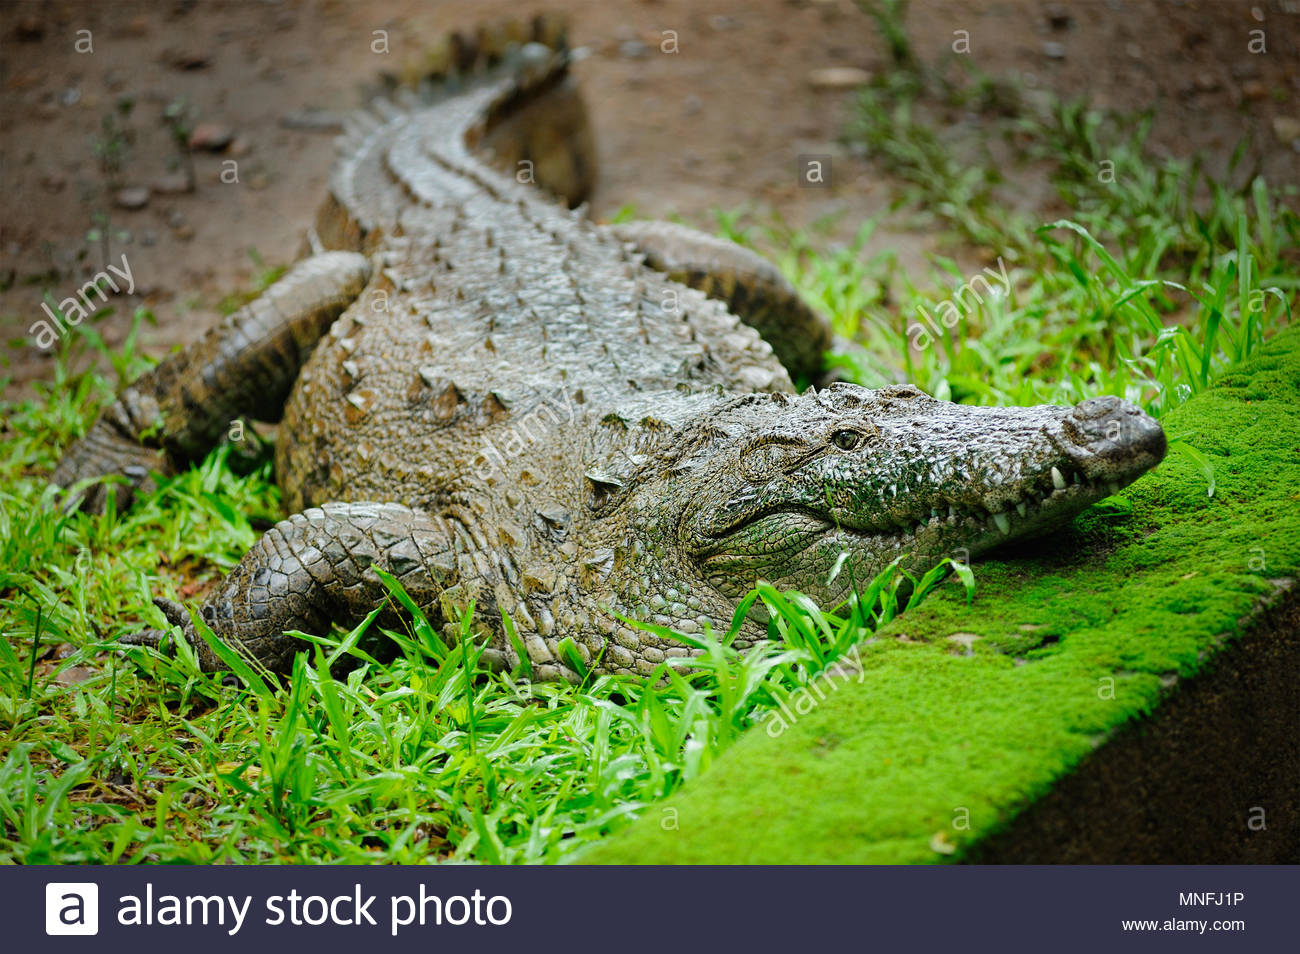Crocodile: (47, 32, 1196, 708)
